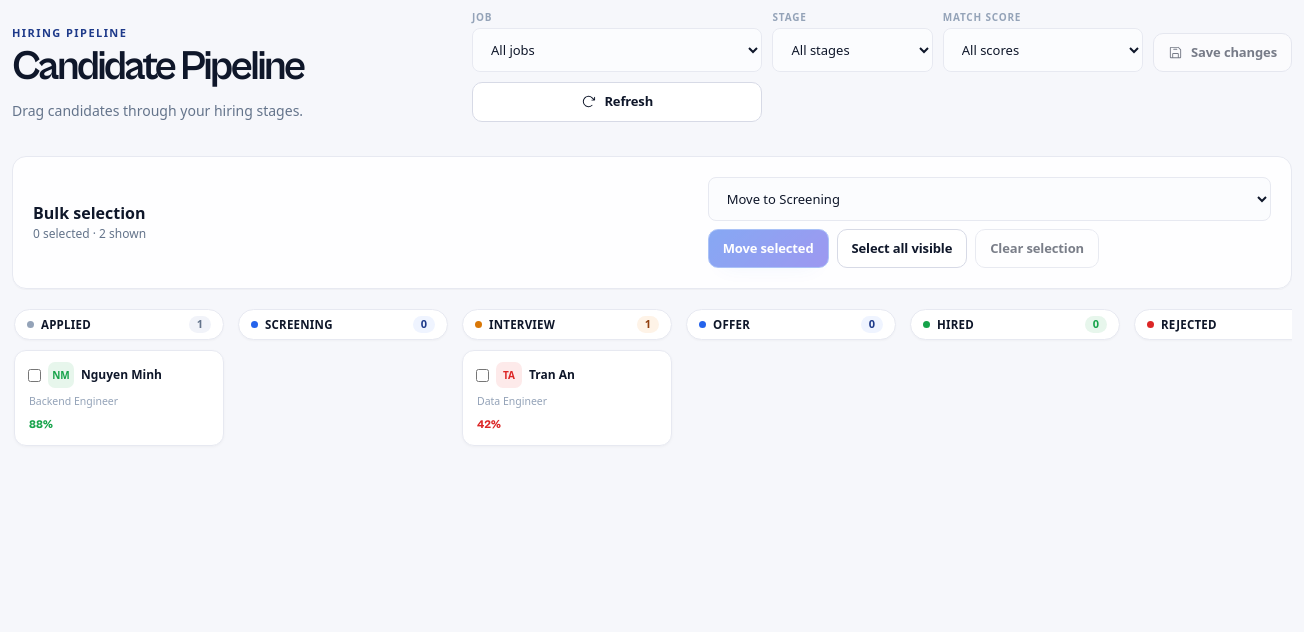
PipelineScreen › moves the selected candidates through the bulk stage action
Click the button "Select all visible" at (902,248), box x1=836 y1=228 x2=967 y2=268
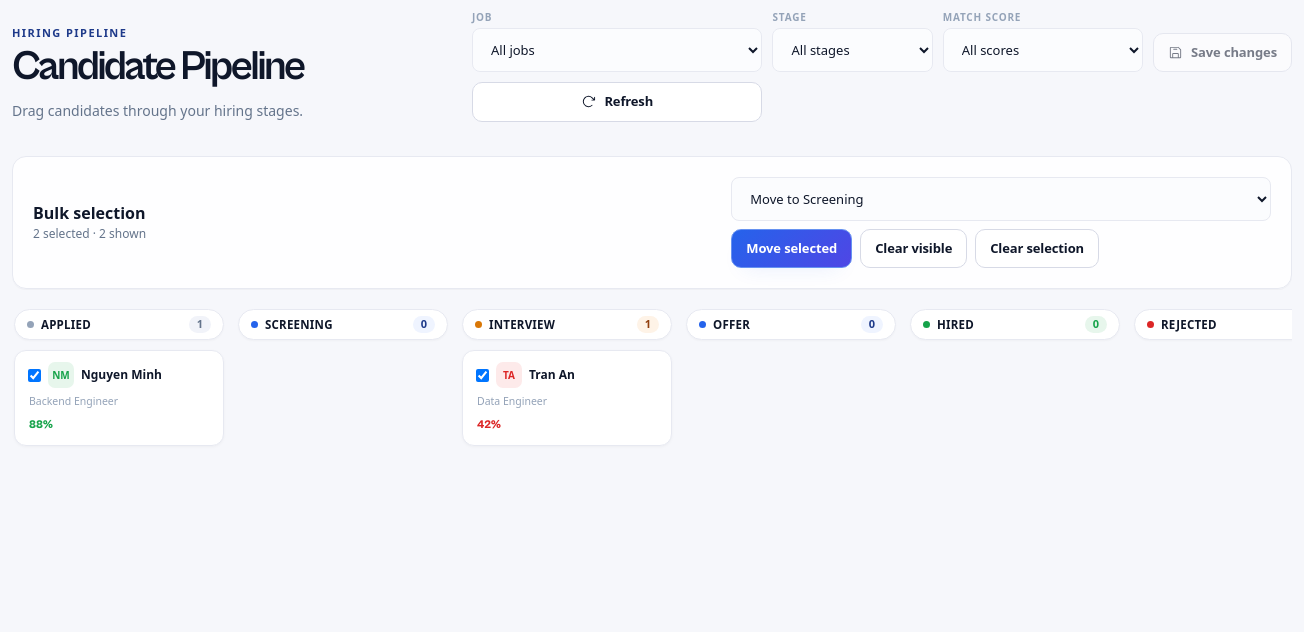
Select "Move to Offer" in the dropdown named "Bulk target stage" at (1001,198), box x1=731 y1=176 x2=1271 y2=220
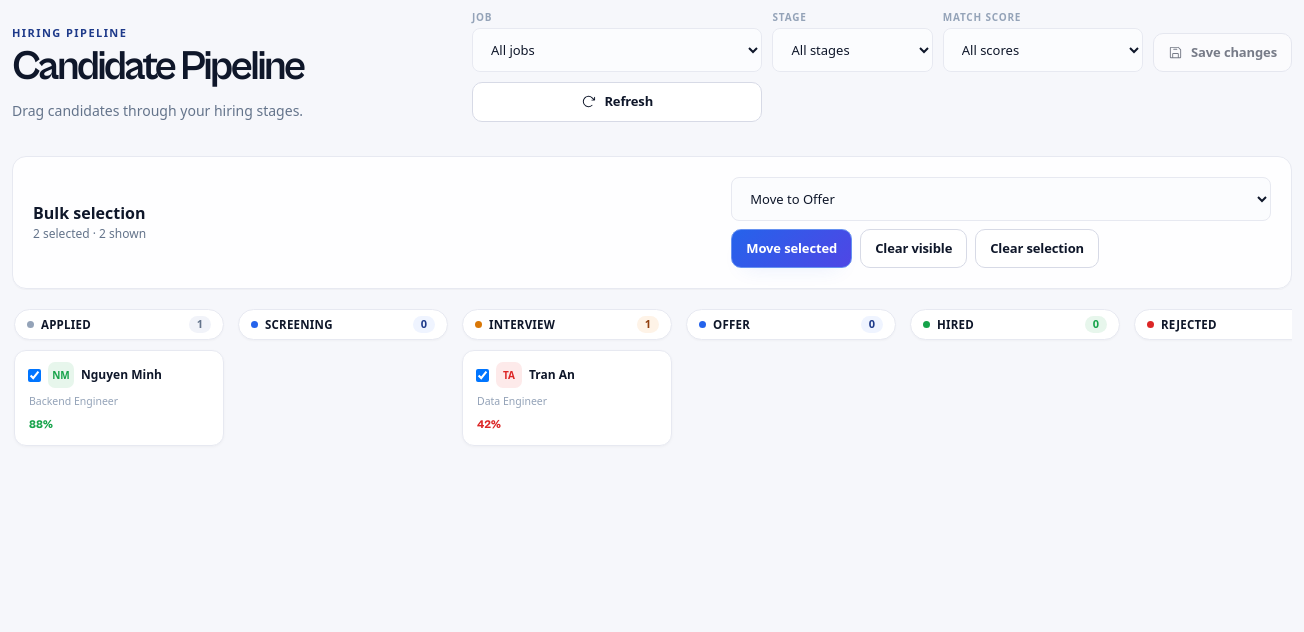
Click the button "Move selected" at (792,248), box x1=731 y1=228 x2=852 y2=268
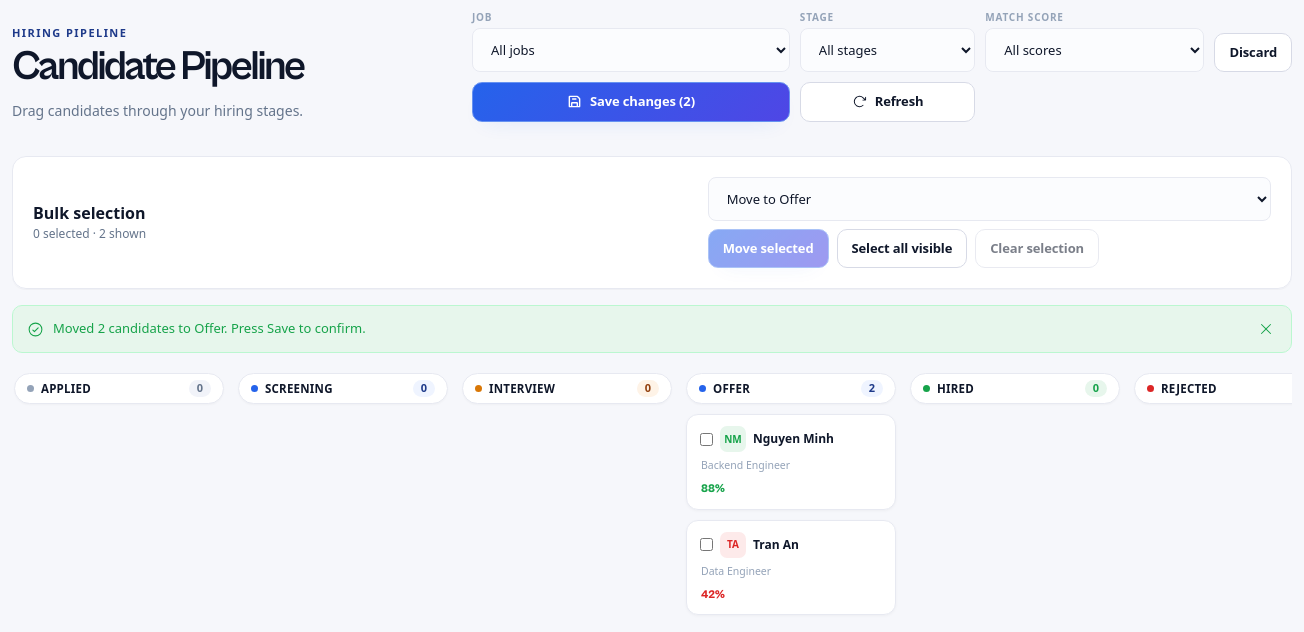
Click the button "Save changes (2)" at (631,102), box x1=472 y1=82 x2=790 y2=122
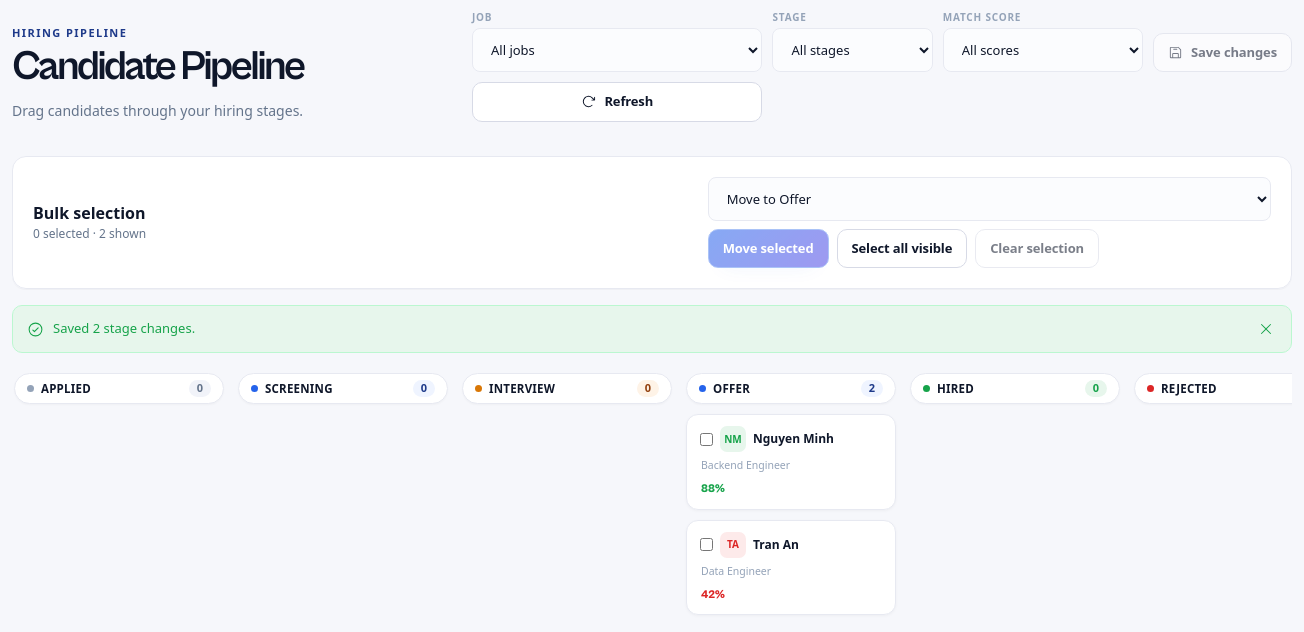
Check: the text "Saved 2 stage changes." is shown, box x1=53 y1=319 x2=195 y2=337
